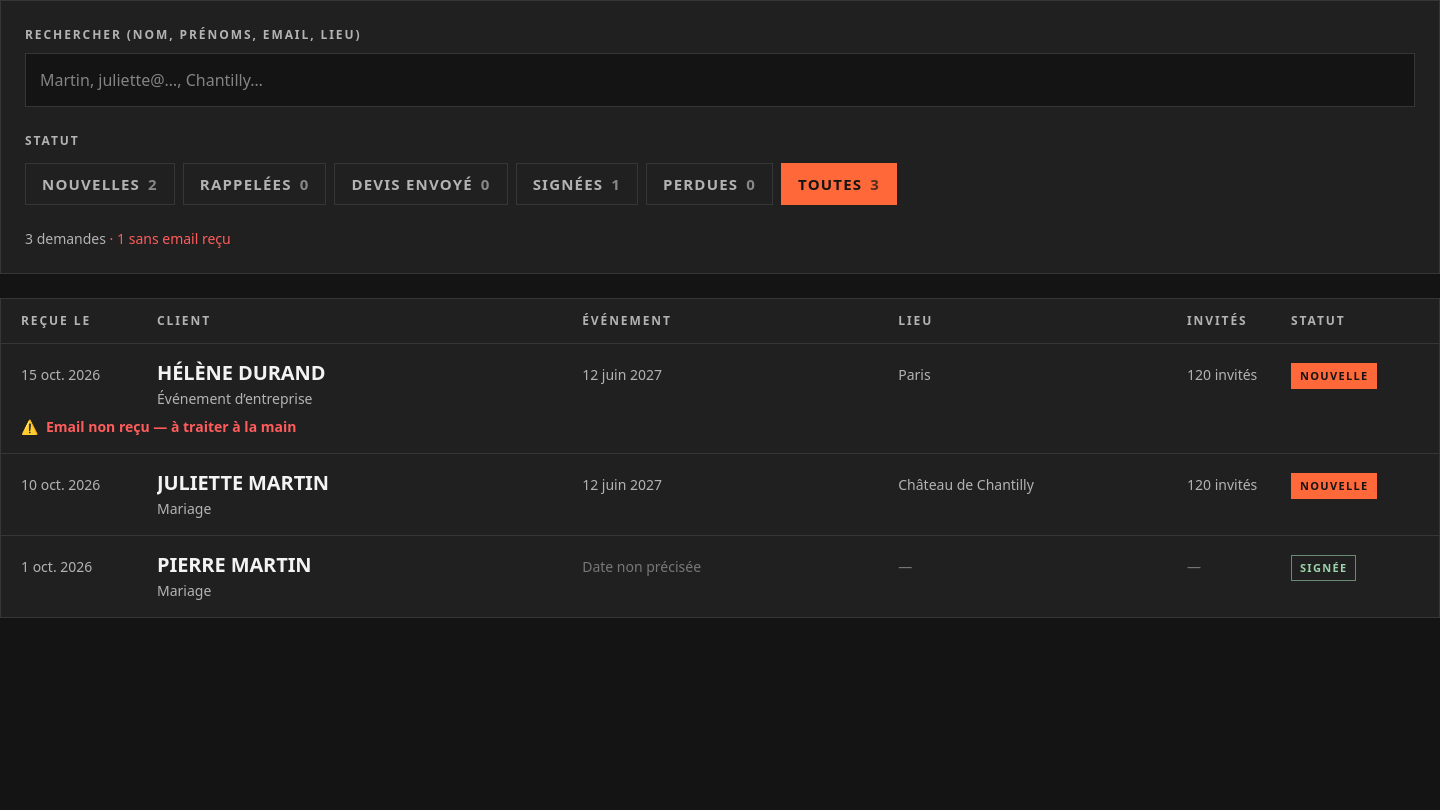
it: GestionDemandes — fiche › avertit dans la fiche quand l’email n’est pas parti
Click the button with aria-label "Ouvrir la demande de Hélène Durand": (241, 373) x1=157 y1=360 x2=325 y2=385
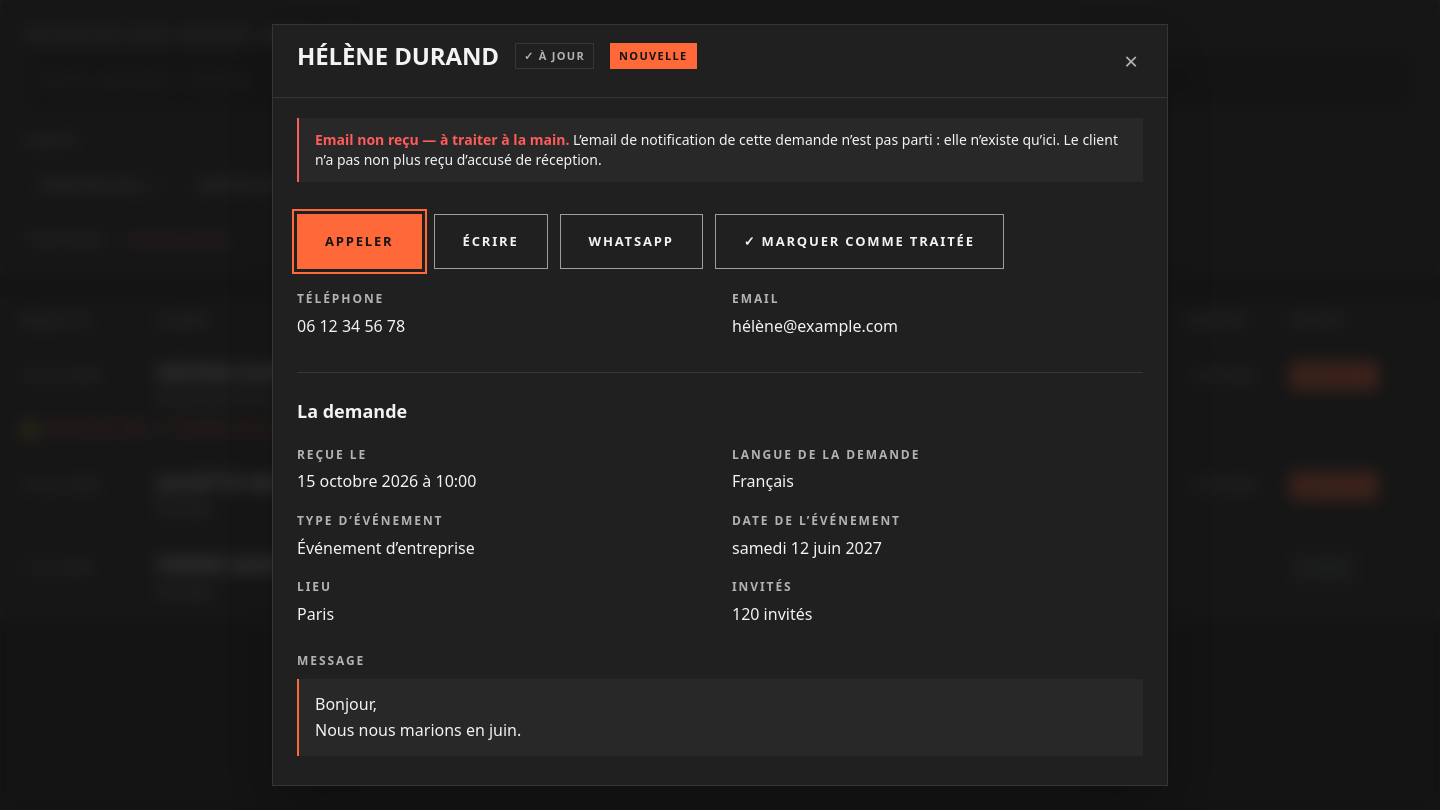
Expected: the message that starts with "Email non reçu — à traiter à la main." is shown, x1=315 y1=130 x2=569 y2=149
Expected: the message that starts with "Email non reçu — à traiter à la main." shows "pas non plus reçu d’accusé de réception", x1=315 y1=130 x2=1118 y2=169
